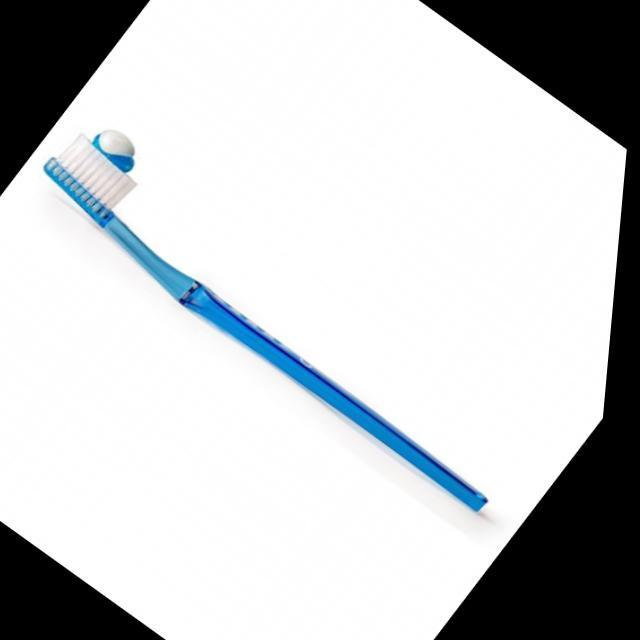toothbrush: (0, 103, 590, 541)
